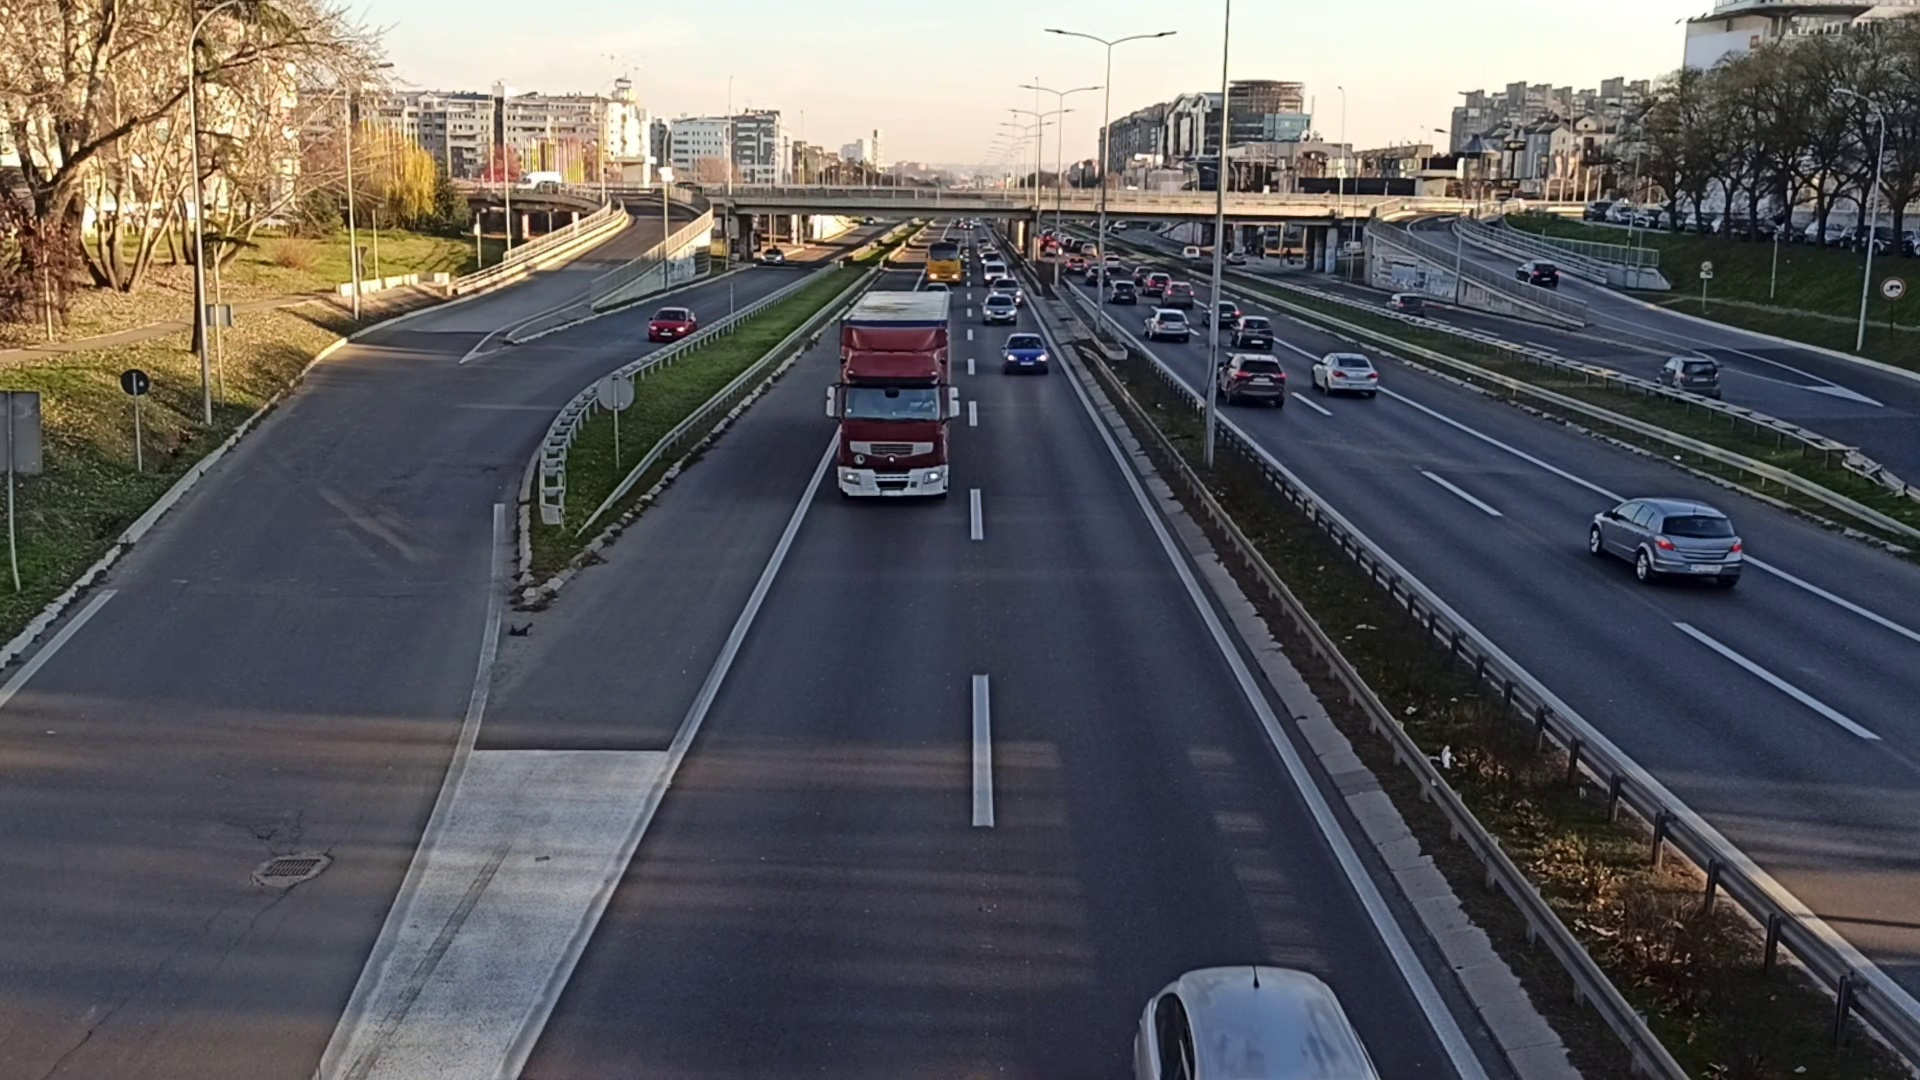car: (1588, 495, 1739, 591), (1215, 353, 1284, 406), (1652, 353, 1721, 400), (1311, 351, 1378, 396), (1000, 330, 1048, 375), (649, 305, 695, 340), (1230, 315, 1273, 349), (1145, 306, 1188, 339), (1519, 260, 1560, 289), (981, 294, 1017, 324)
truck: (837, 287, 956, 502), (924, 239, 963, 287)
